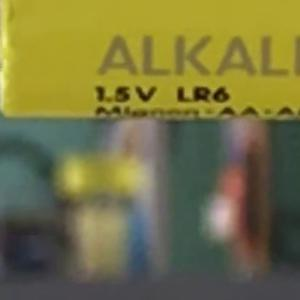keyword: (91, 28, 212, 83)
